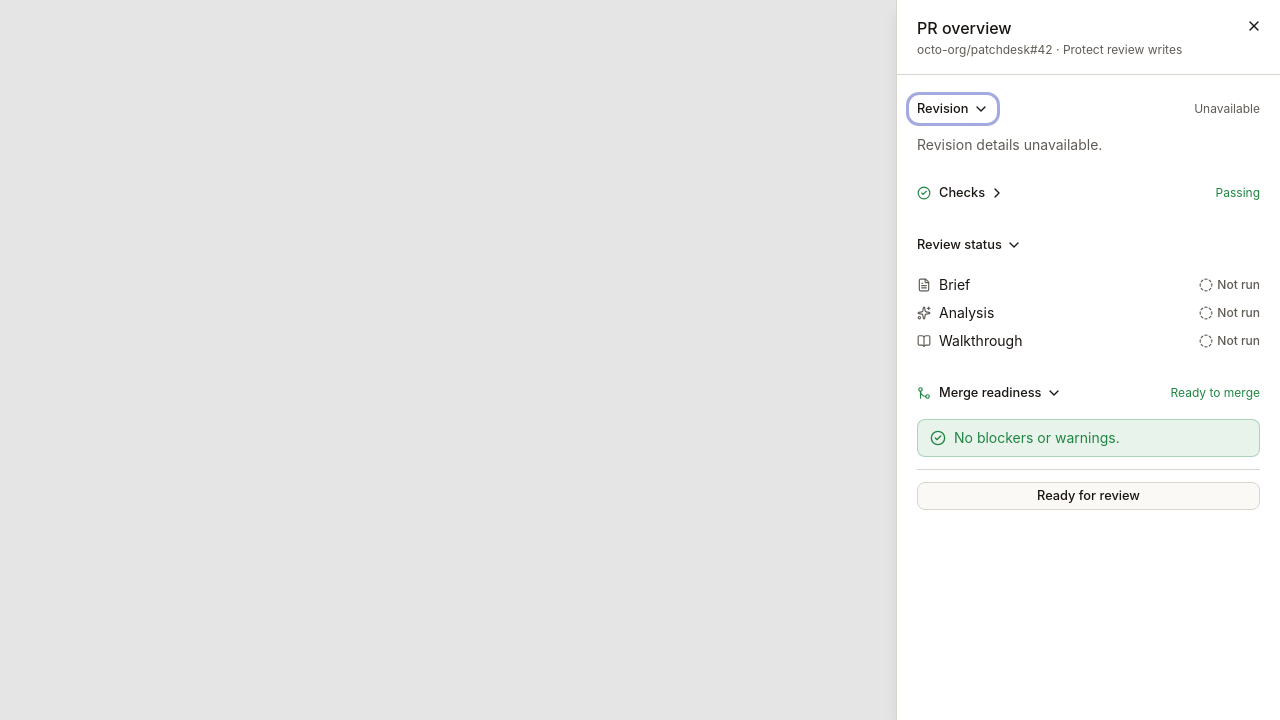
Test: pr overview sheet draft toggle › updates the toggle label as the review moves between draft states
The width and height of the screenshot is (1280, 720).
Click the button "Ready for review" at (1088, 496), box [917,482,1260,510]
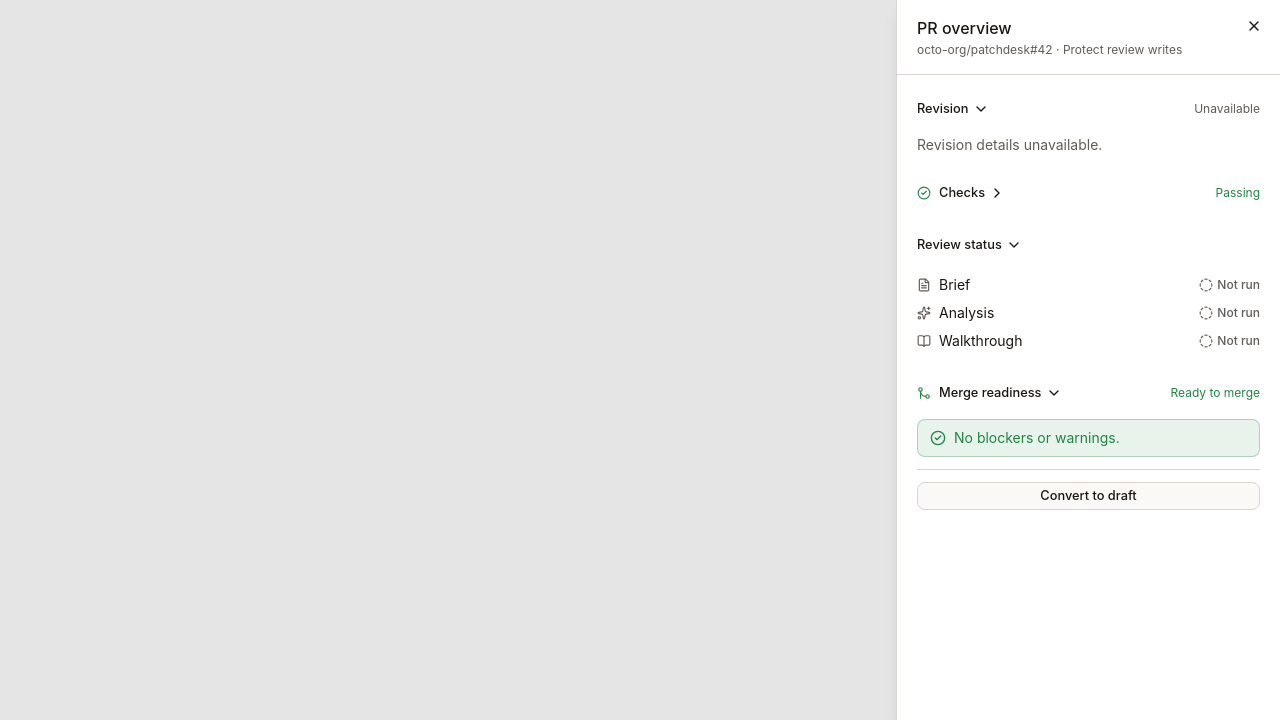
Result: the button "Ready for review" is gone
Click the button "Convert to draft" at (1088, 496), box [917,482,1260,510]
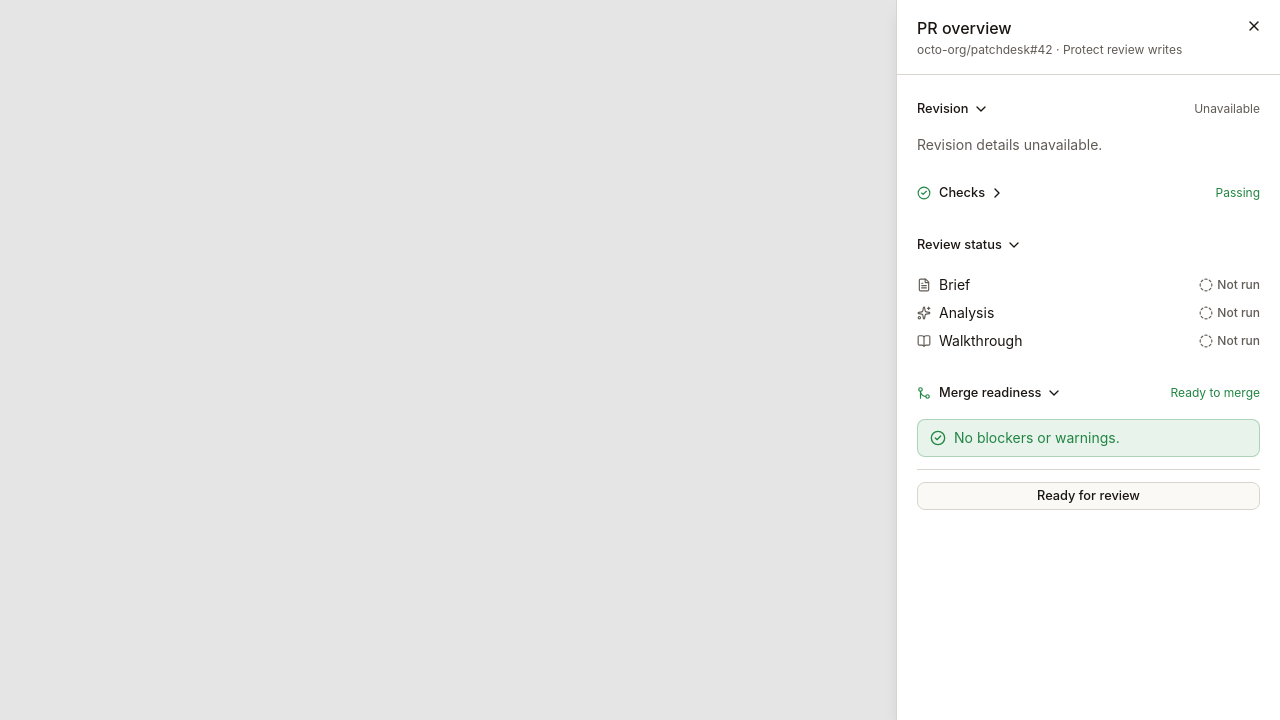
Result: the button "Ready for review" is shown at [917,482,1260,510]
